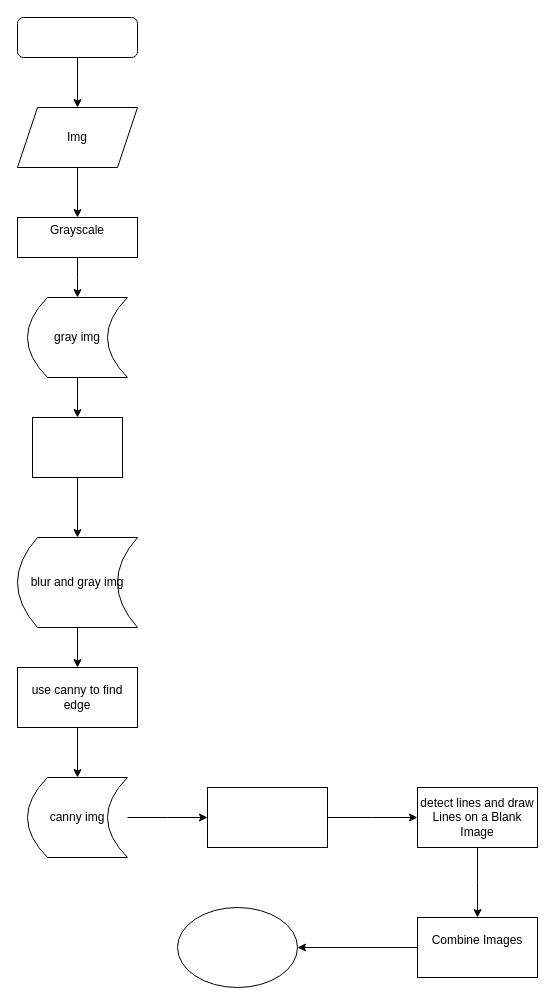
This 555x1005 diagram has some shape labels left out. Here are the shapes that lost their labels. From the top down, the centre of each, then its label:
At [77,37]: "start".
At [77,447]: "blur".
At [267,817]: "create a mask in focus area".
At [237,947]: "show img result".
